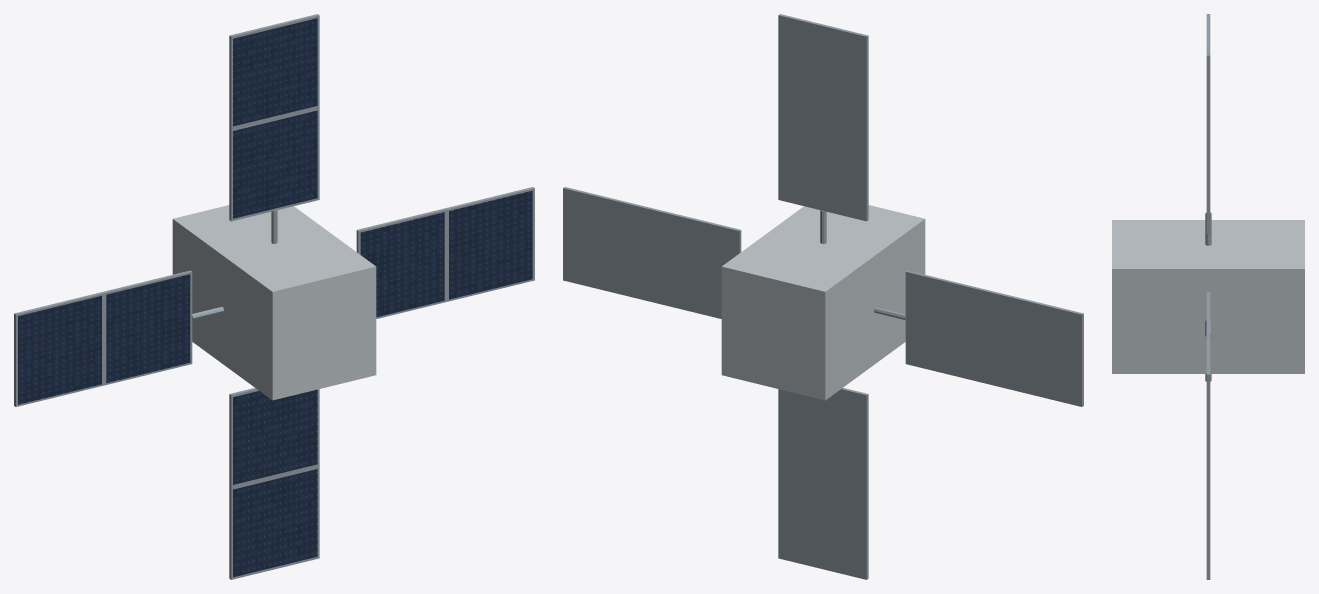
Rendered from ref-astro200-30775.glb.
3 renders of one model, left to right at view 1: azimuth 30°, elevation 25°; view 2: azimuth 150°, elevation 25°; view 3: azimuth 270°, elevation 25°, orthographic. The views are drawn at different scales.
Parts seen in each view (by area): view 1: Photovoltaic laminates (×8), Spacecraft body, Array frame (×8); view 2: Array frame (×8), Spacecraft body; view 3: Spacecraft body, Array frame (×4).
Boxes of the visible parts, <box> form: Photovoltaic laminates (×8): <box>18,18,532,577</box>; Spacecraft body: <box>172,205,376,400</box>; Array frame (×8): <box>14,14,534,579</box>; Array frame (×8): <box>563,14,1083,579</box>; Spacecraft body: <box>721,205,925,400</box>; Spacecraft body: <box>1112,220,1304,373</box>; Array frame (×4): <box>1206,14,1210,579</box>.
Size of the model in its own units: 3 by 3 by 1.
Materials: 3 (1 with a texture image).
